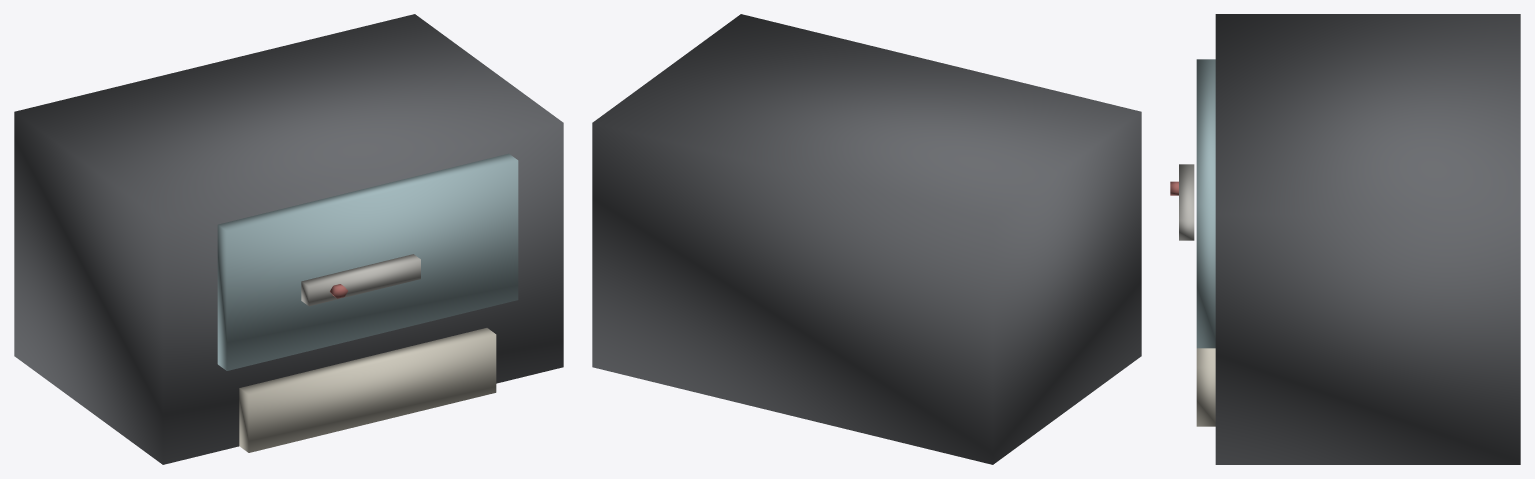
The model's file is flat_monitor__squat.glb.
3 renders of one model, left to right at view 1: azimuth 30°, elevation 25°; view 2: azimuth 150°, elevation 25°; view 3: azimuth 270°, elevation 25°, orthographic. The views are drawn at different scales.
Visible parts, largest first — view 1: world; view 2: world; view 3: world.
Boxes of the visible parts, box(x1,y1,x2,y2) form: world: box(14, 14, 563, 464); world: box(592, 14, 1141, 464); world: box(1170, 14, 1520, 464).
Bounding box in the file's own units: 0.605 × 0.3528 × 0.4466.
